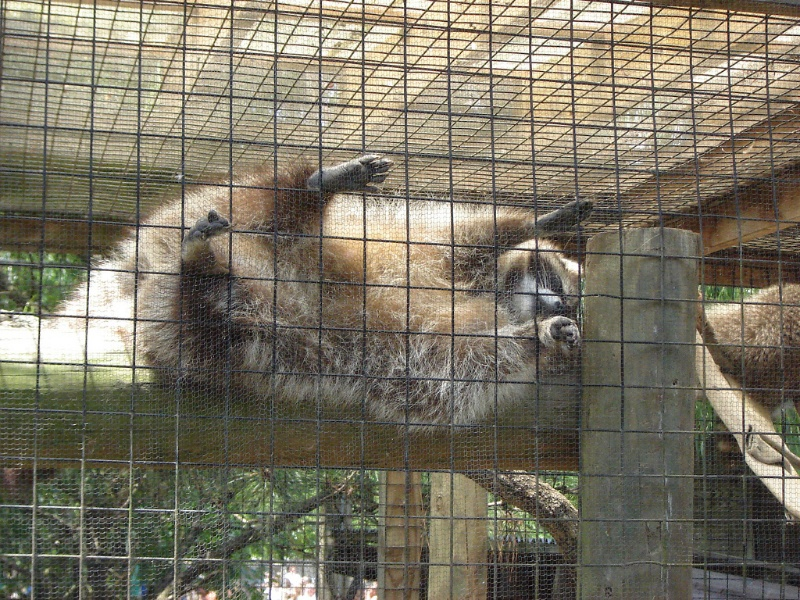raccoon: (62, 153, 587, 435)
